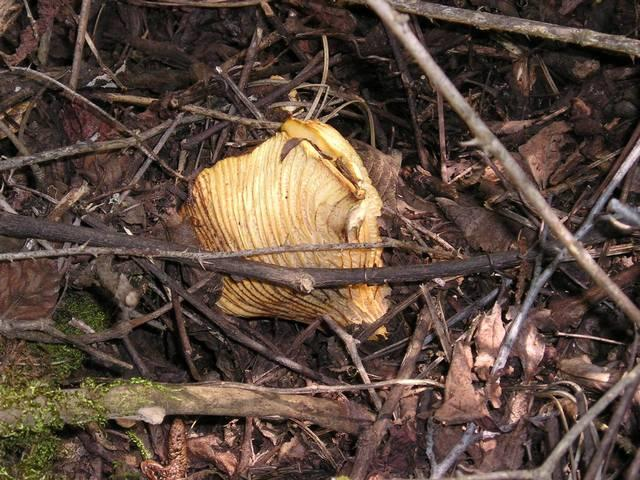edible_mushroom: (178, 115, 393, 339)
